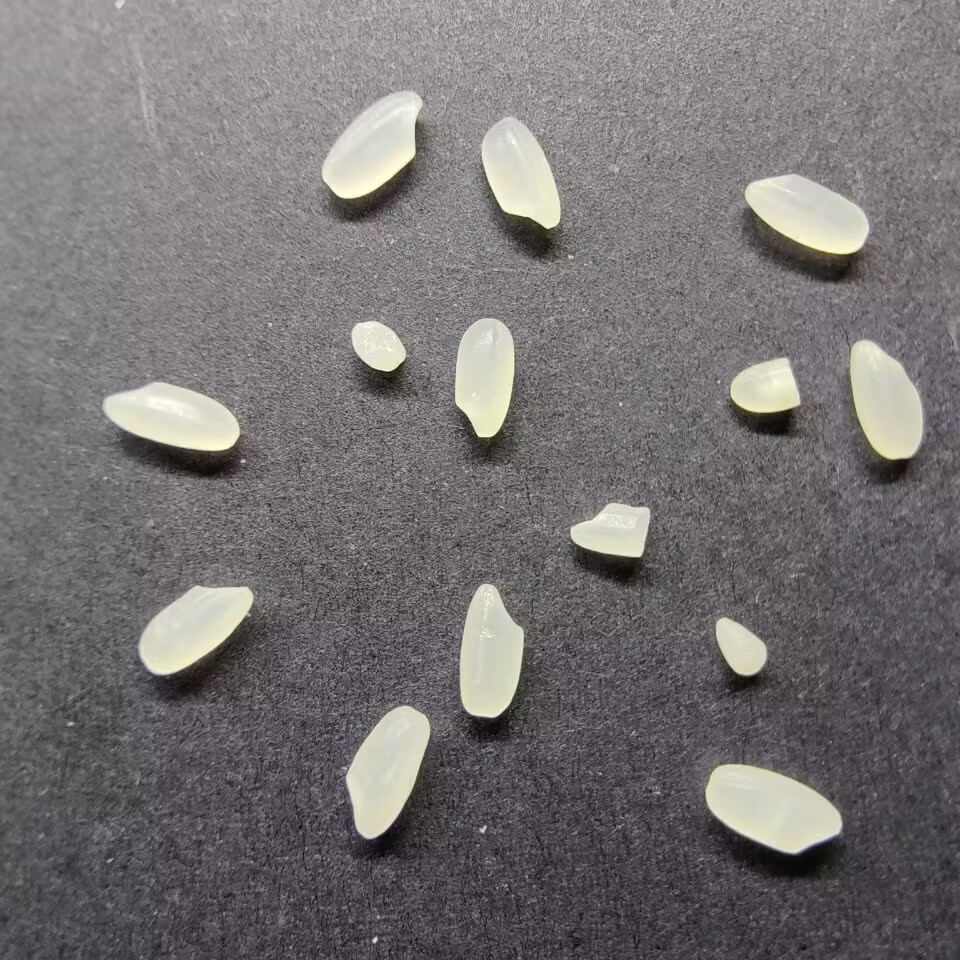broken: (566, 497, 653, 560), (728, 354, 802, 414), (346, 318, 408, 374), (714, 615, 768, 676)
rice: (704, 761, 841, 855), (344, 703, 431, 841), (319, 86, 423, 201), (137, 581, 254, 677), (743, 171, 870, 256), (98, 379, 240, 453), (456, 580, 527, 719), (848, 338, 927, 460), (479, 114, 561, 231), (452, 317, 517, 439)
